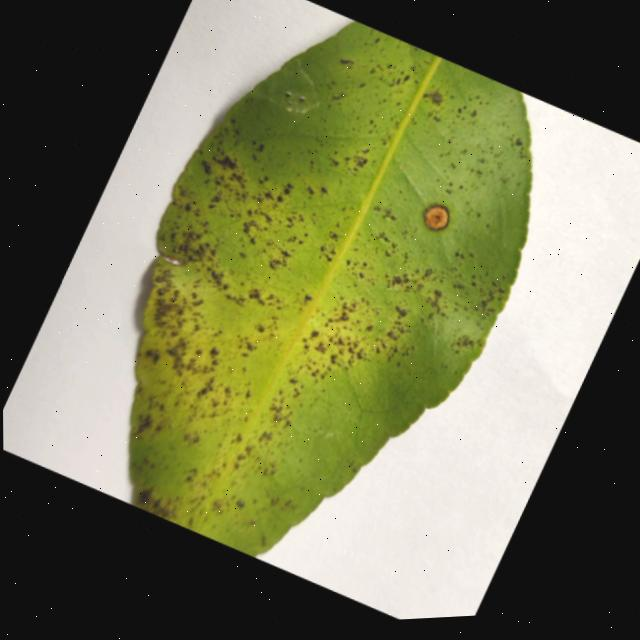melanose: (127, 22, 530, 556)
